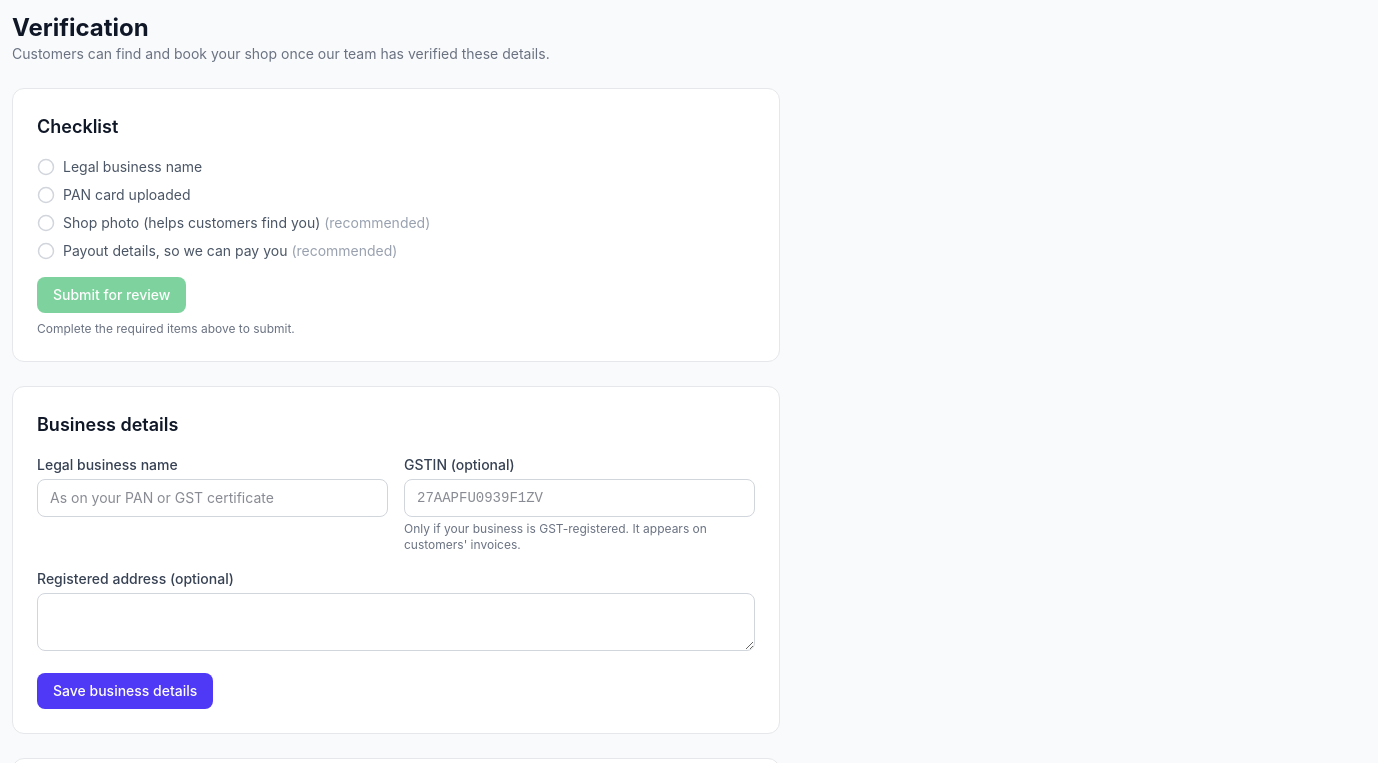
Test: OnboardingPage › blocks submitting until the required items are done, then submits
The image size is (1378, 763).
Expected: the button "Submit for review" is disabled, x1=37 y1=277 x2=186 y2=313
Type "Asha Pvt Ltd" into the field labelled "Legal business name". click: coordinates (212, 498)
box: x1=37 y1=479 x2=388 y2=517
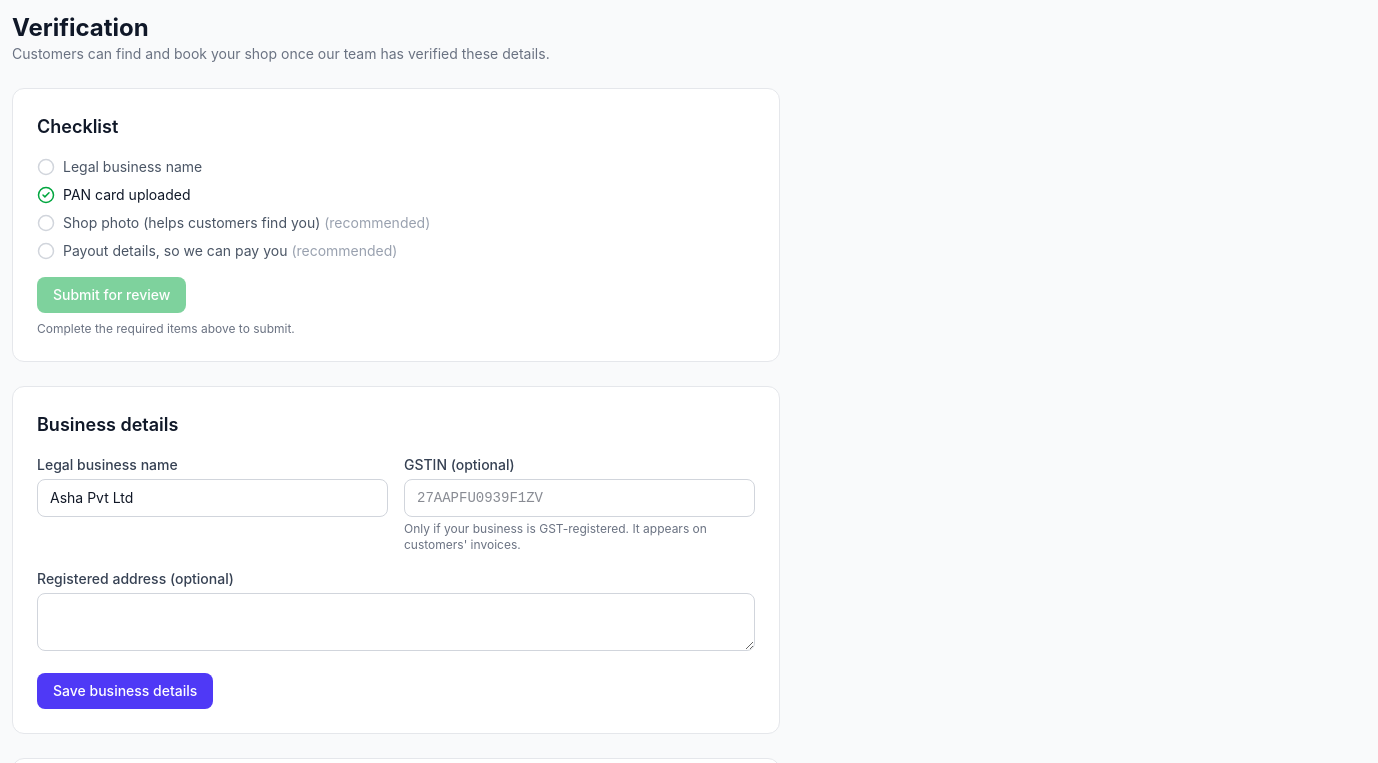
Click the button "Save business details". click: coordinates (125, 691)
box: x1=37 y1=673 x2=213 y2=709
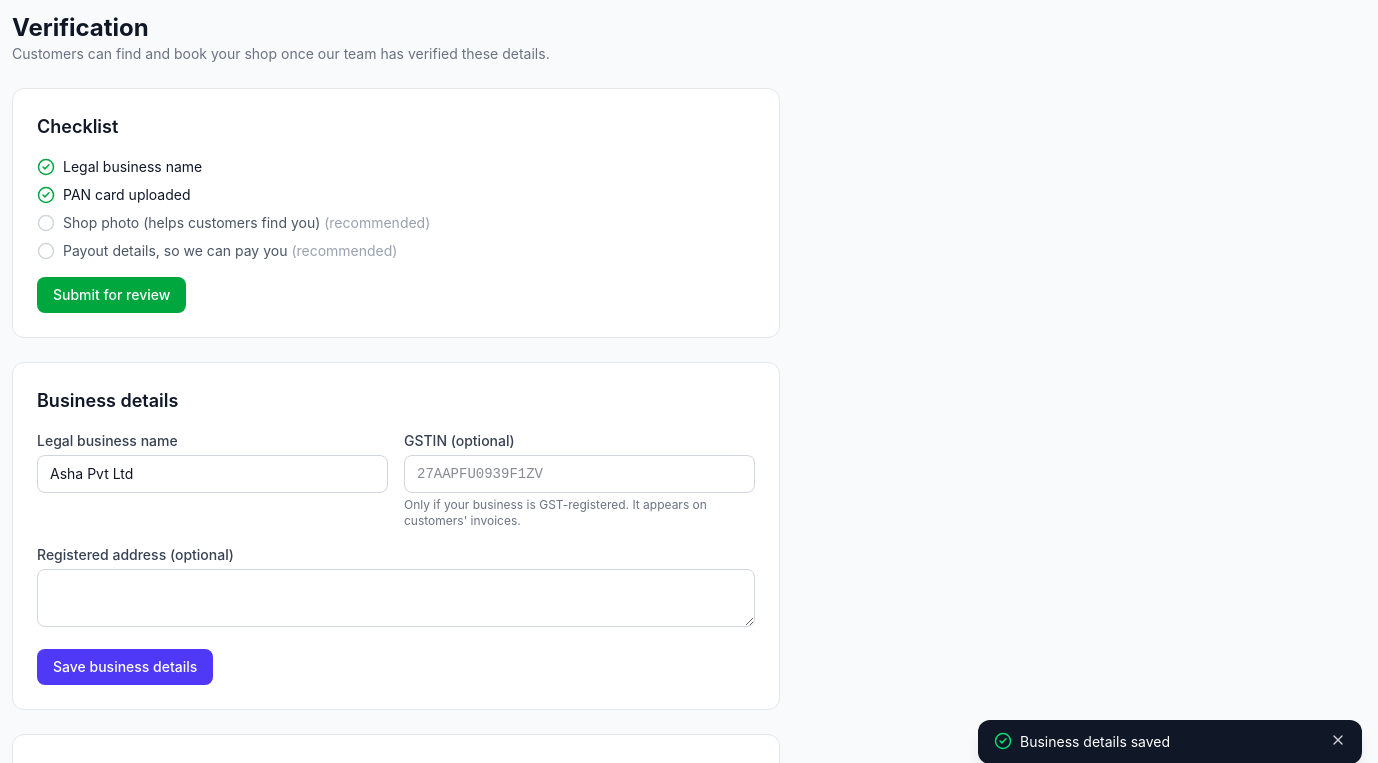
Expected: the button "Submit for review" is enabled
Click the button "Submit for review". click: coordinates (112, 295)
box: x1=37 y1=277 x2=186 y2=313
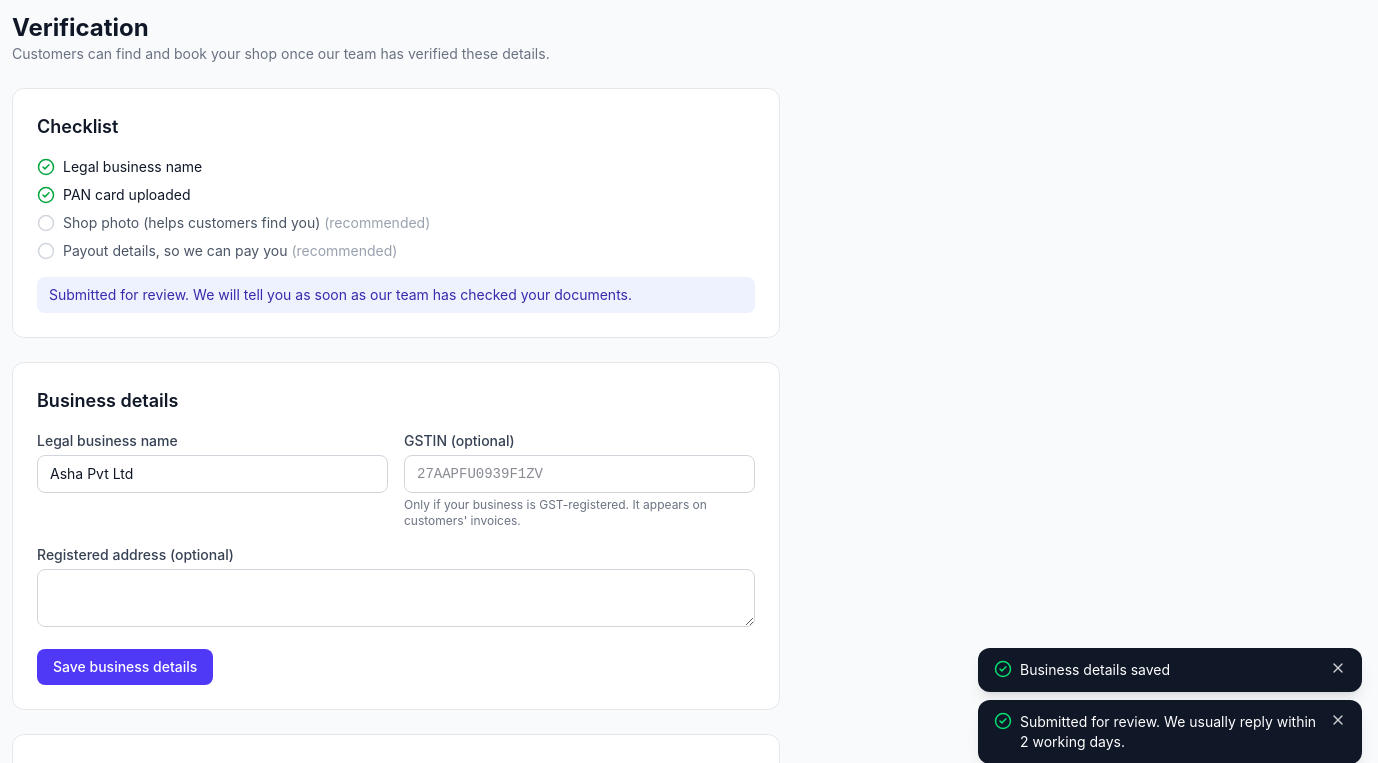
Expected: the text "Submitted for review. We will tell you" is shown, x1=49 y1=286 x2=632 y2=303
